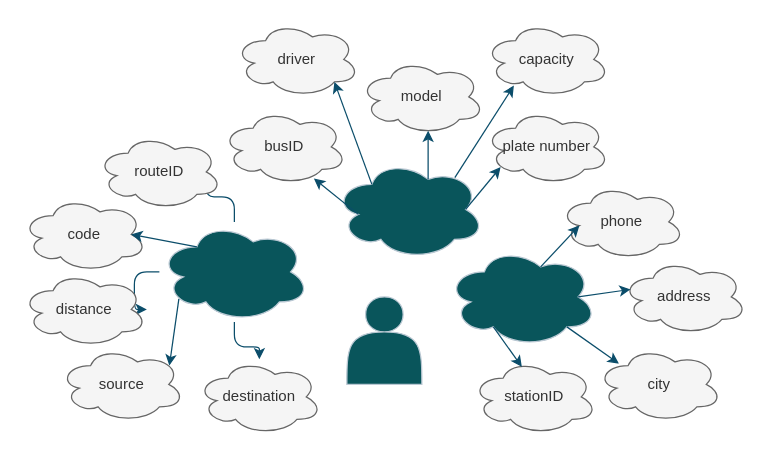
Image size: 769x456. Some labels were removed from this diagram. Each missing label, with the centre of its shape:
bus: [408,208]
route: [233,271]
station: [521,296]
